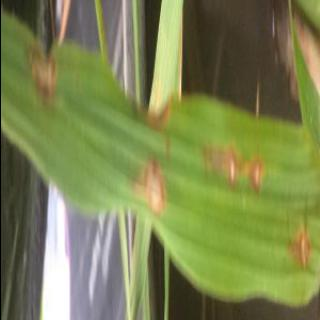Blast: (16, 40, 64, 112), (204, 145, 270, 194), (140, 150, 164, 217), (140, 97, 178, 131), (294, 230, 310, 272)
